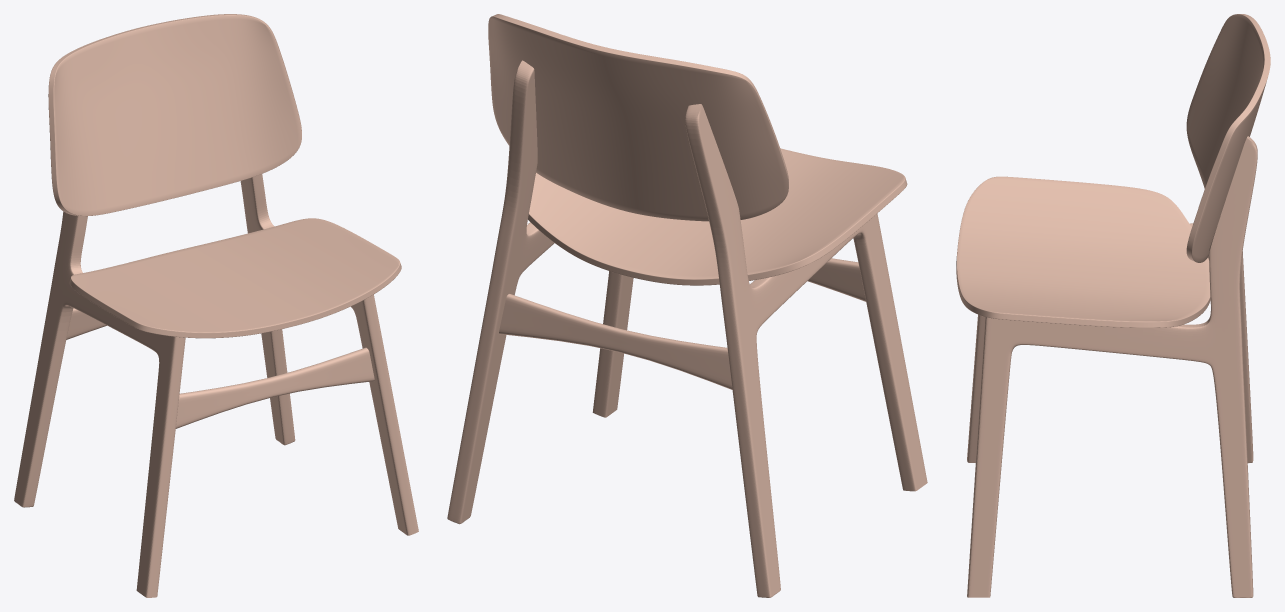
The model's file is chair_pastel.glb.
3 renders of one model, left to right at view 1: azimuth 30°, elevation 25°; view 2: azimuth 150°, elevation 25°; view 3: azimuth 270°, elevation 25°, orthographic. The views are drawn at different scales.
Parts seen in each view (by area): view 1: base_vertical, base_orizontal, chair_soborg_base, conector_1, conector_2; view 2: chair_soborg_base, base_vertical, base_orizontal, conector_2, conector_1; view 3: base_orizontal, chair_soborg_base, base_vertical.
Boxes of the visible parts, x1,y1,x2,y2 form: base_vertical: (48,14,301,216); base_orizontal: (69,218,401,338); chair_soborg_base: (14,174,418,597); conector_1: (175,347,374,428); conector_2: (66,308,106,339); chair_soborg_base: (447,60,927,597); base_vertical: (488,14,788,221); base_orizontal: (528,148,907,285); conector_2: (499,294,732,389); conector_1: (807,258,865,301); base_orizontal: (956,176,1210,327); chair_soborg_base: (967,136,1257,597); base_vertical: (1186,14,1270,262).
Size of the model in its own units: 0.5267 by 0.8066 by 0.4897.
